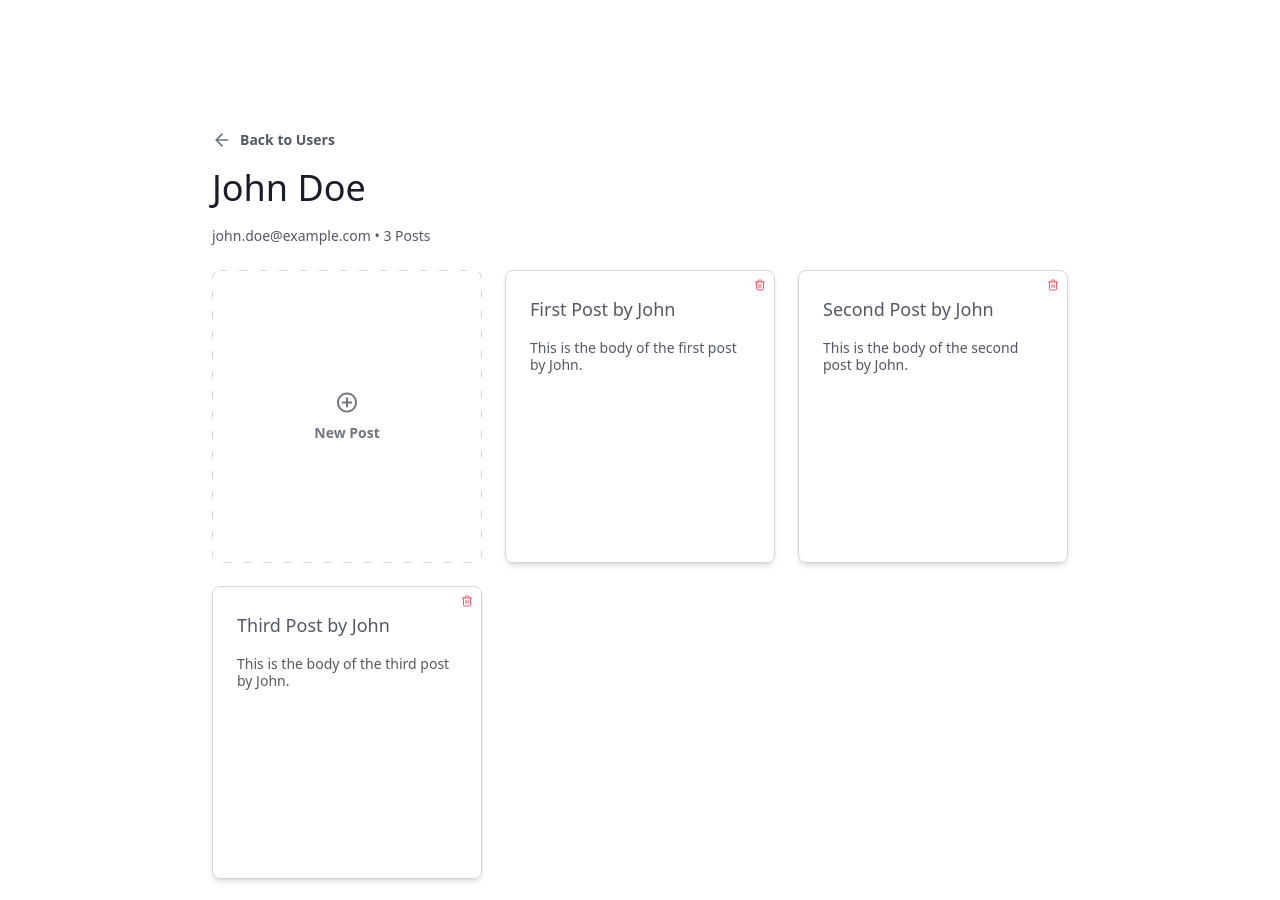
it: PostManager › should create new post
Click the text "New Post" at (347, 433), box [314, 423, 380, 443]
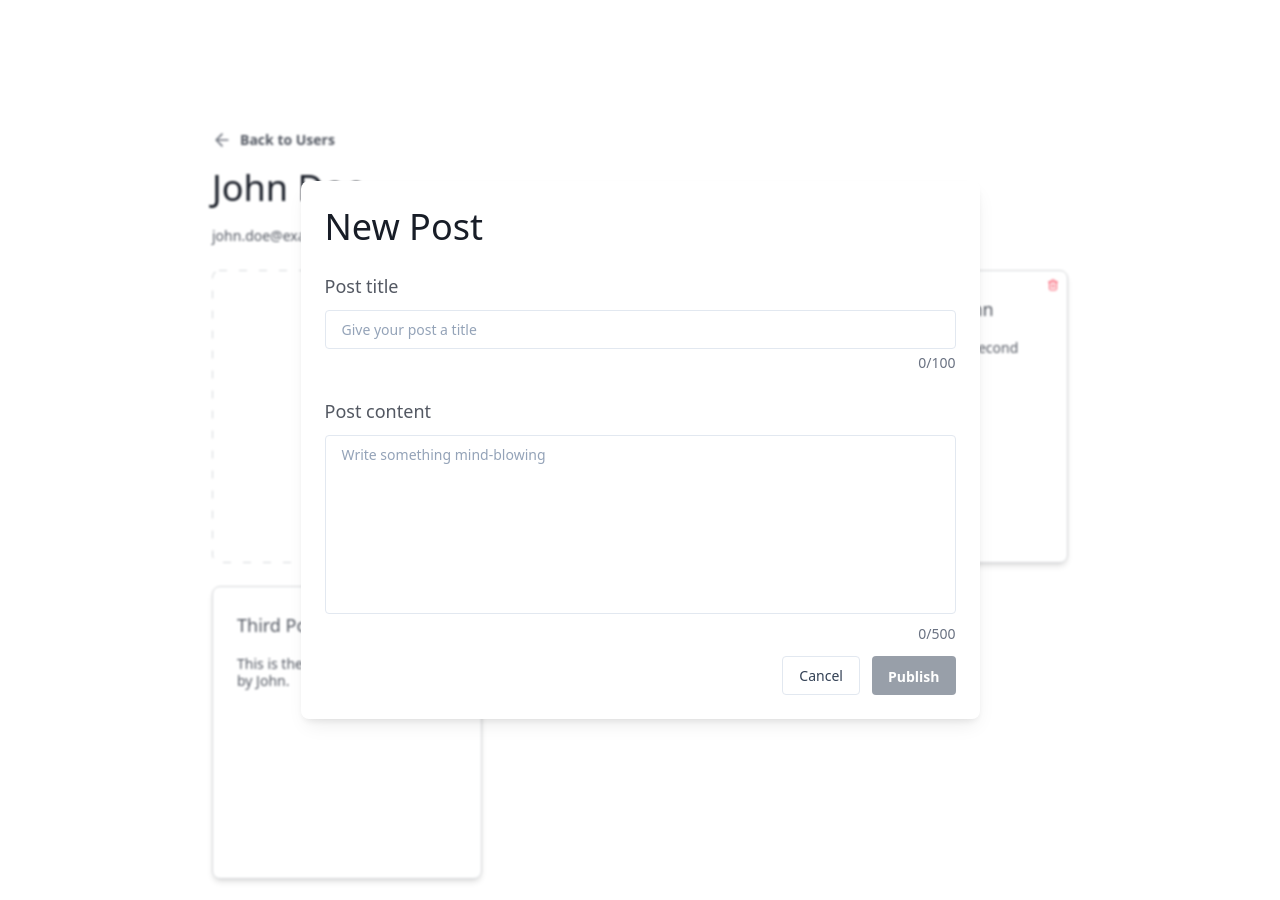
Type "New Title" into the field with placeholder "Give your post a title" at (640, 330), box [324, 310, 956, 349]
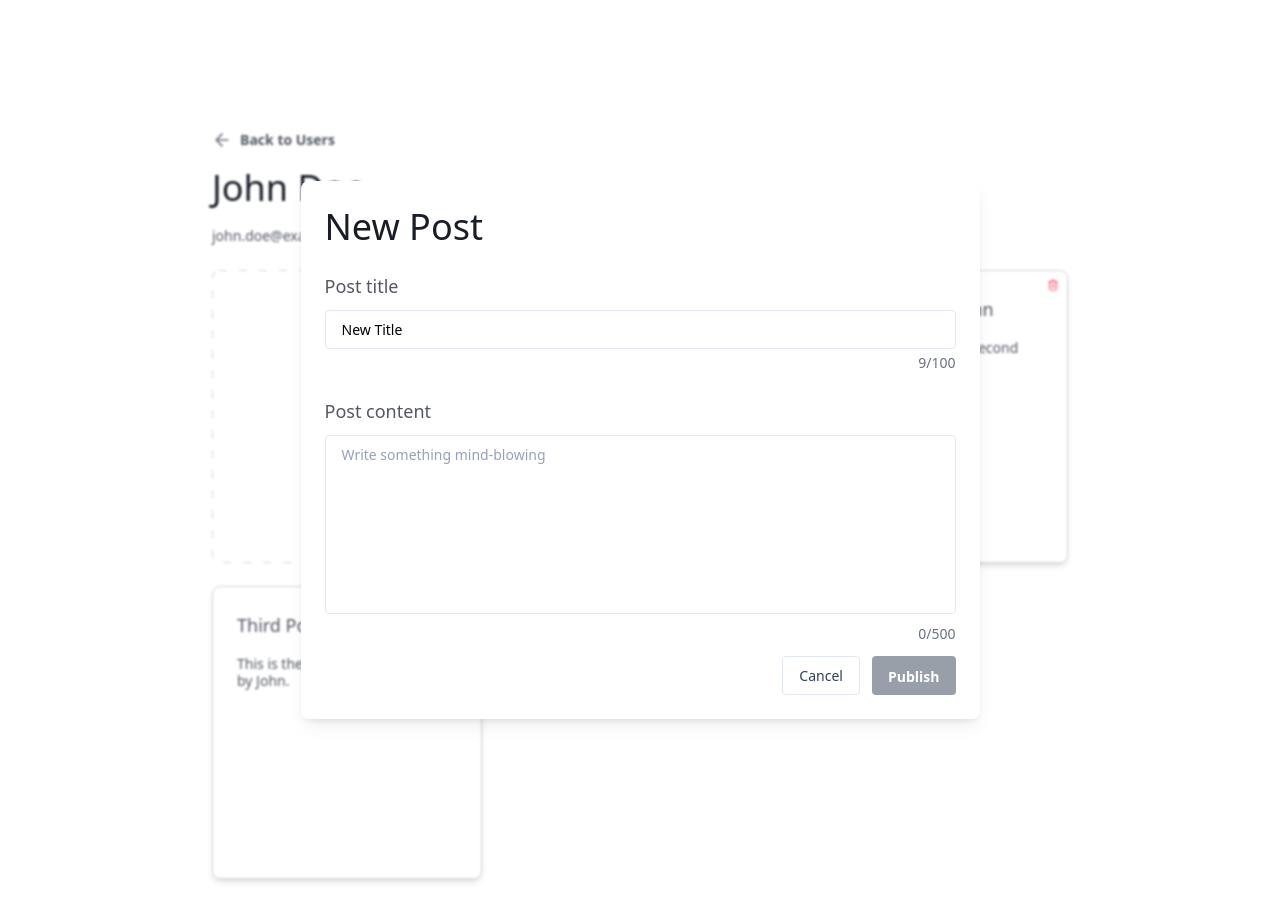
Type "New content" into the text box with placeholder "Write something mind-blowing" at (640, 525), box [324, 435, 956, 614]
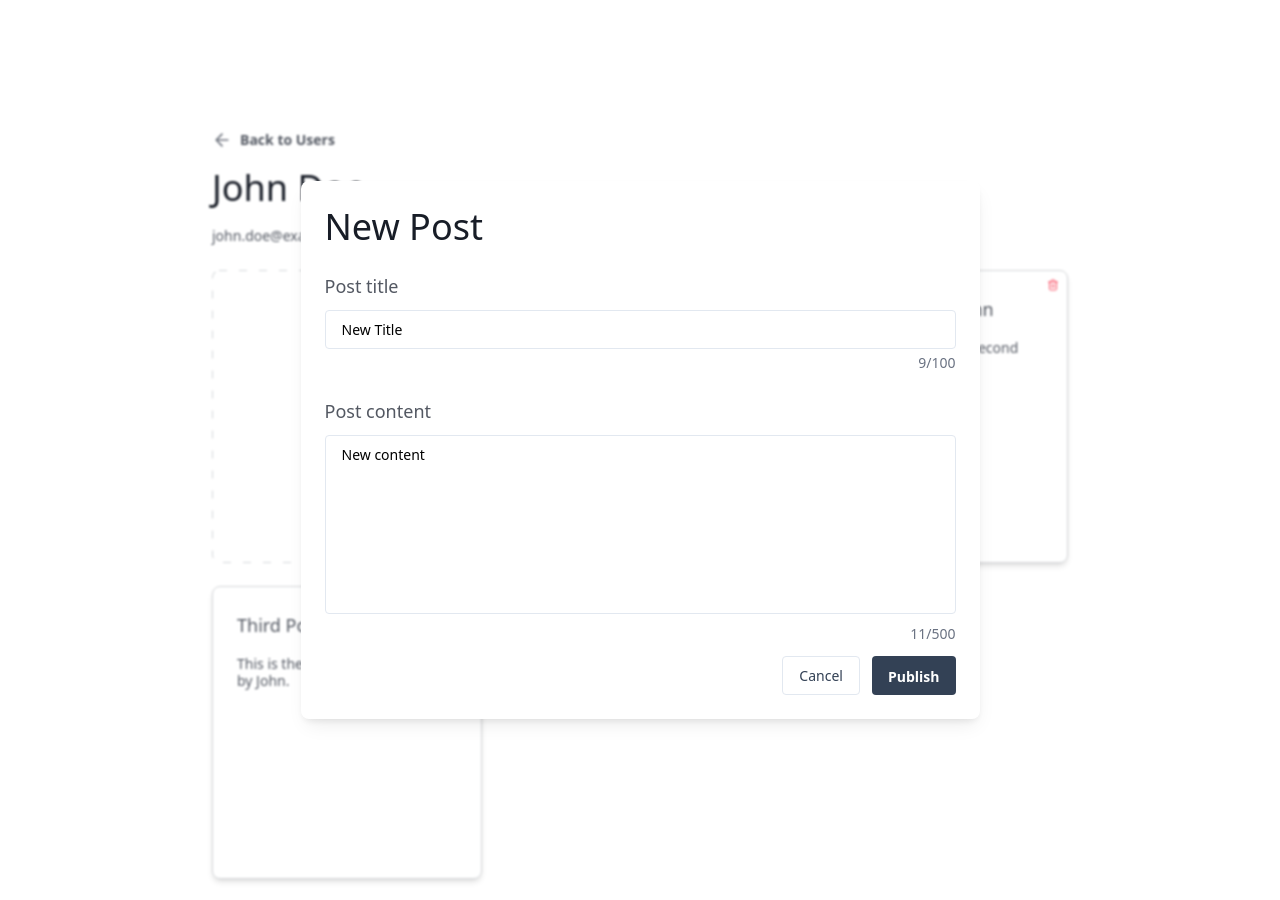
Click the button "Publish" at (914, 676), box [872, 656, 956, 695]
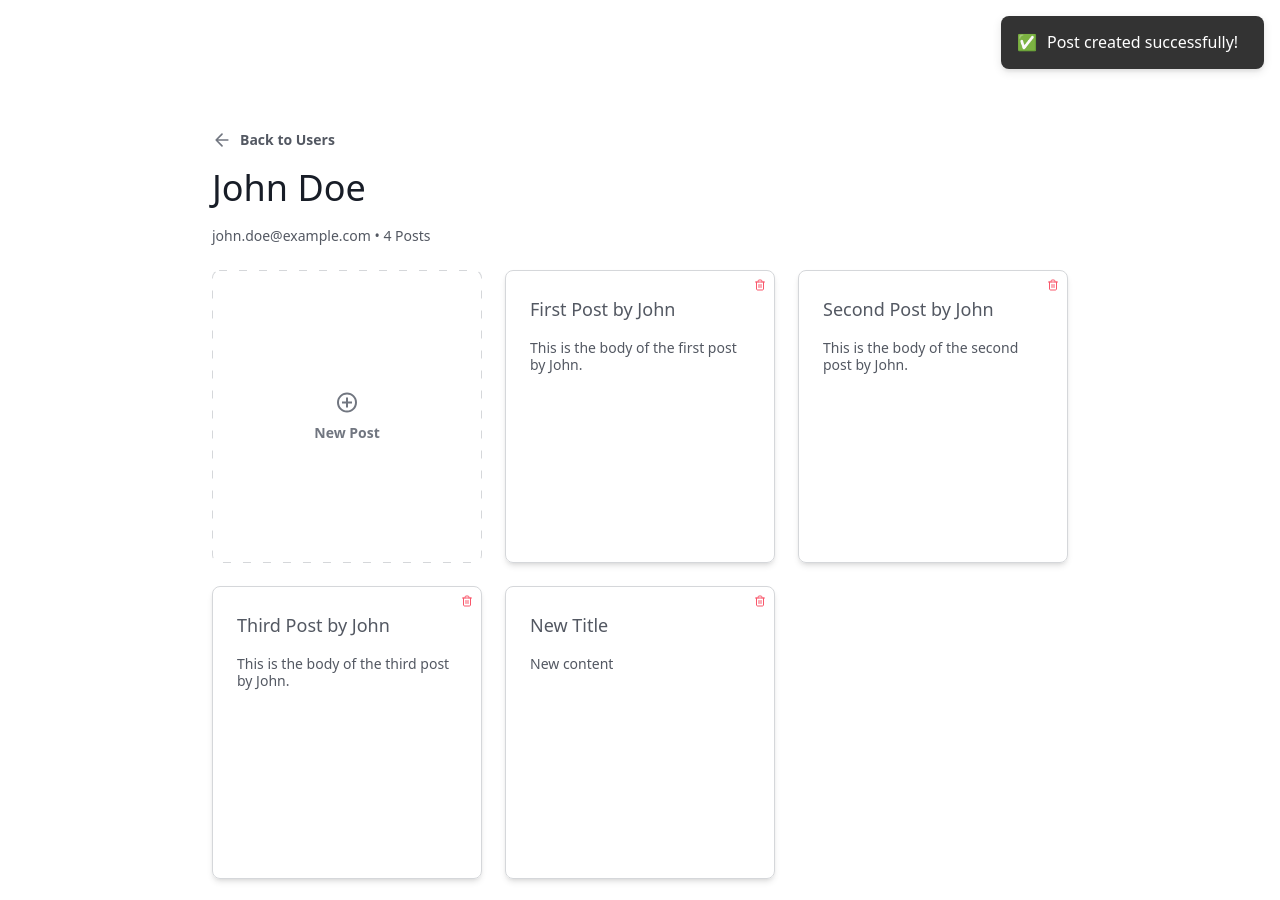
Expected: the text "New Title" is shown, [530, 613, 608, 637]
